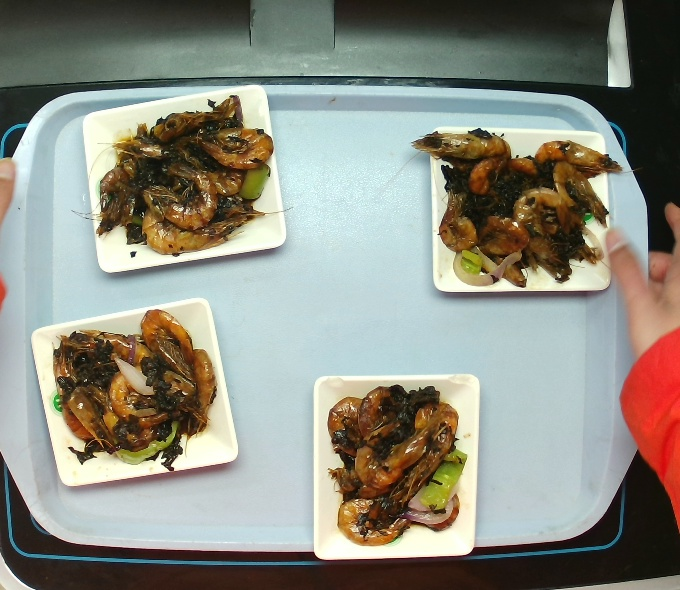wcq-GanCaiXia: (429, 127, 622, 293), (84, 96, 270, 256), (43, 313, 221, 478), (316, 381, 469, 539)
